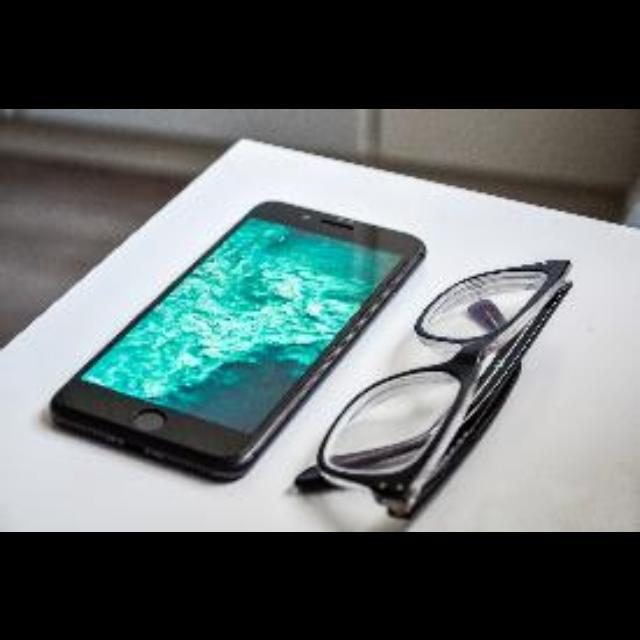PhoneUse: (50, 198, 424, 478)
